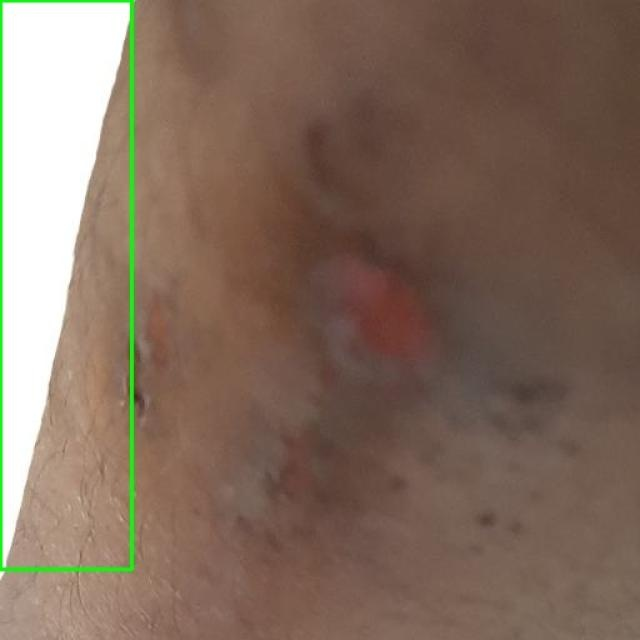Atopic Dermatitis: (0, 0, 131, 569)
